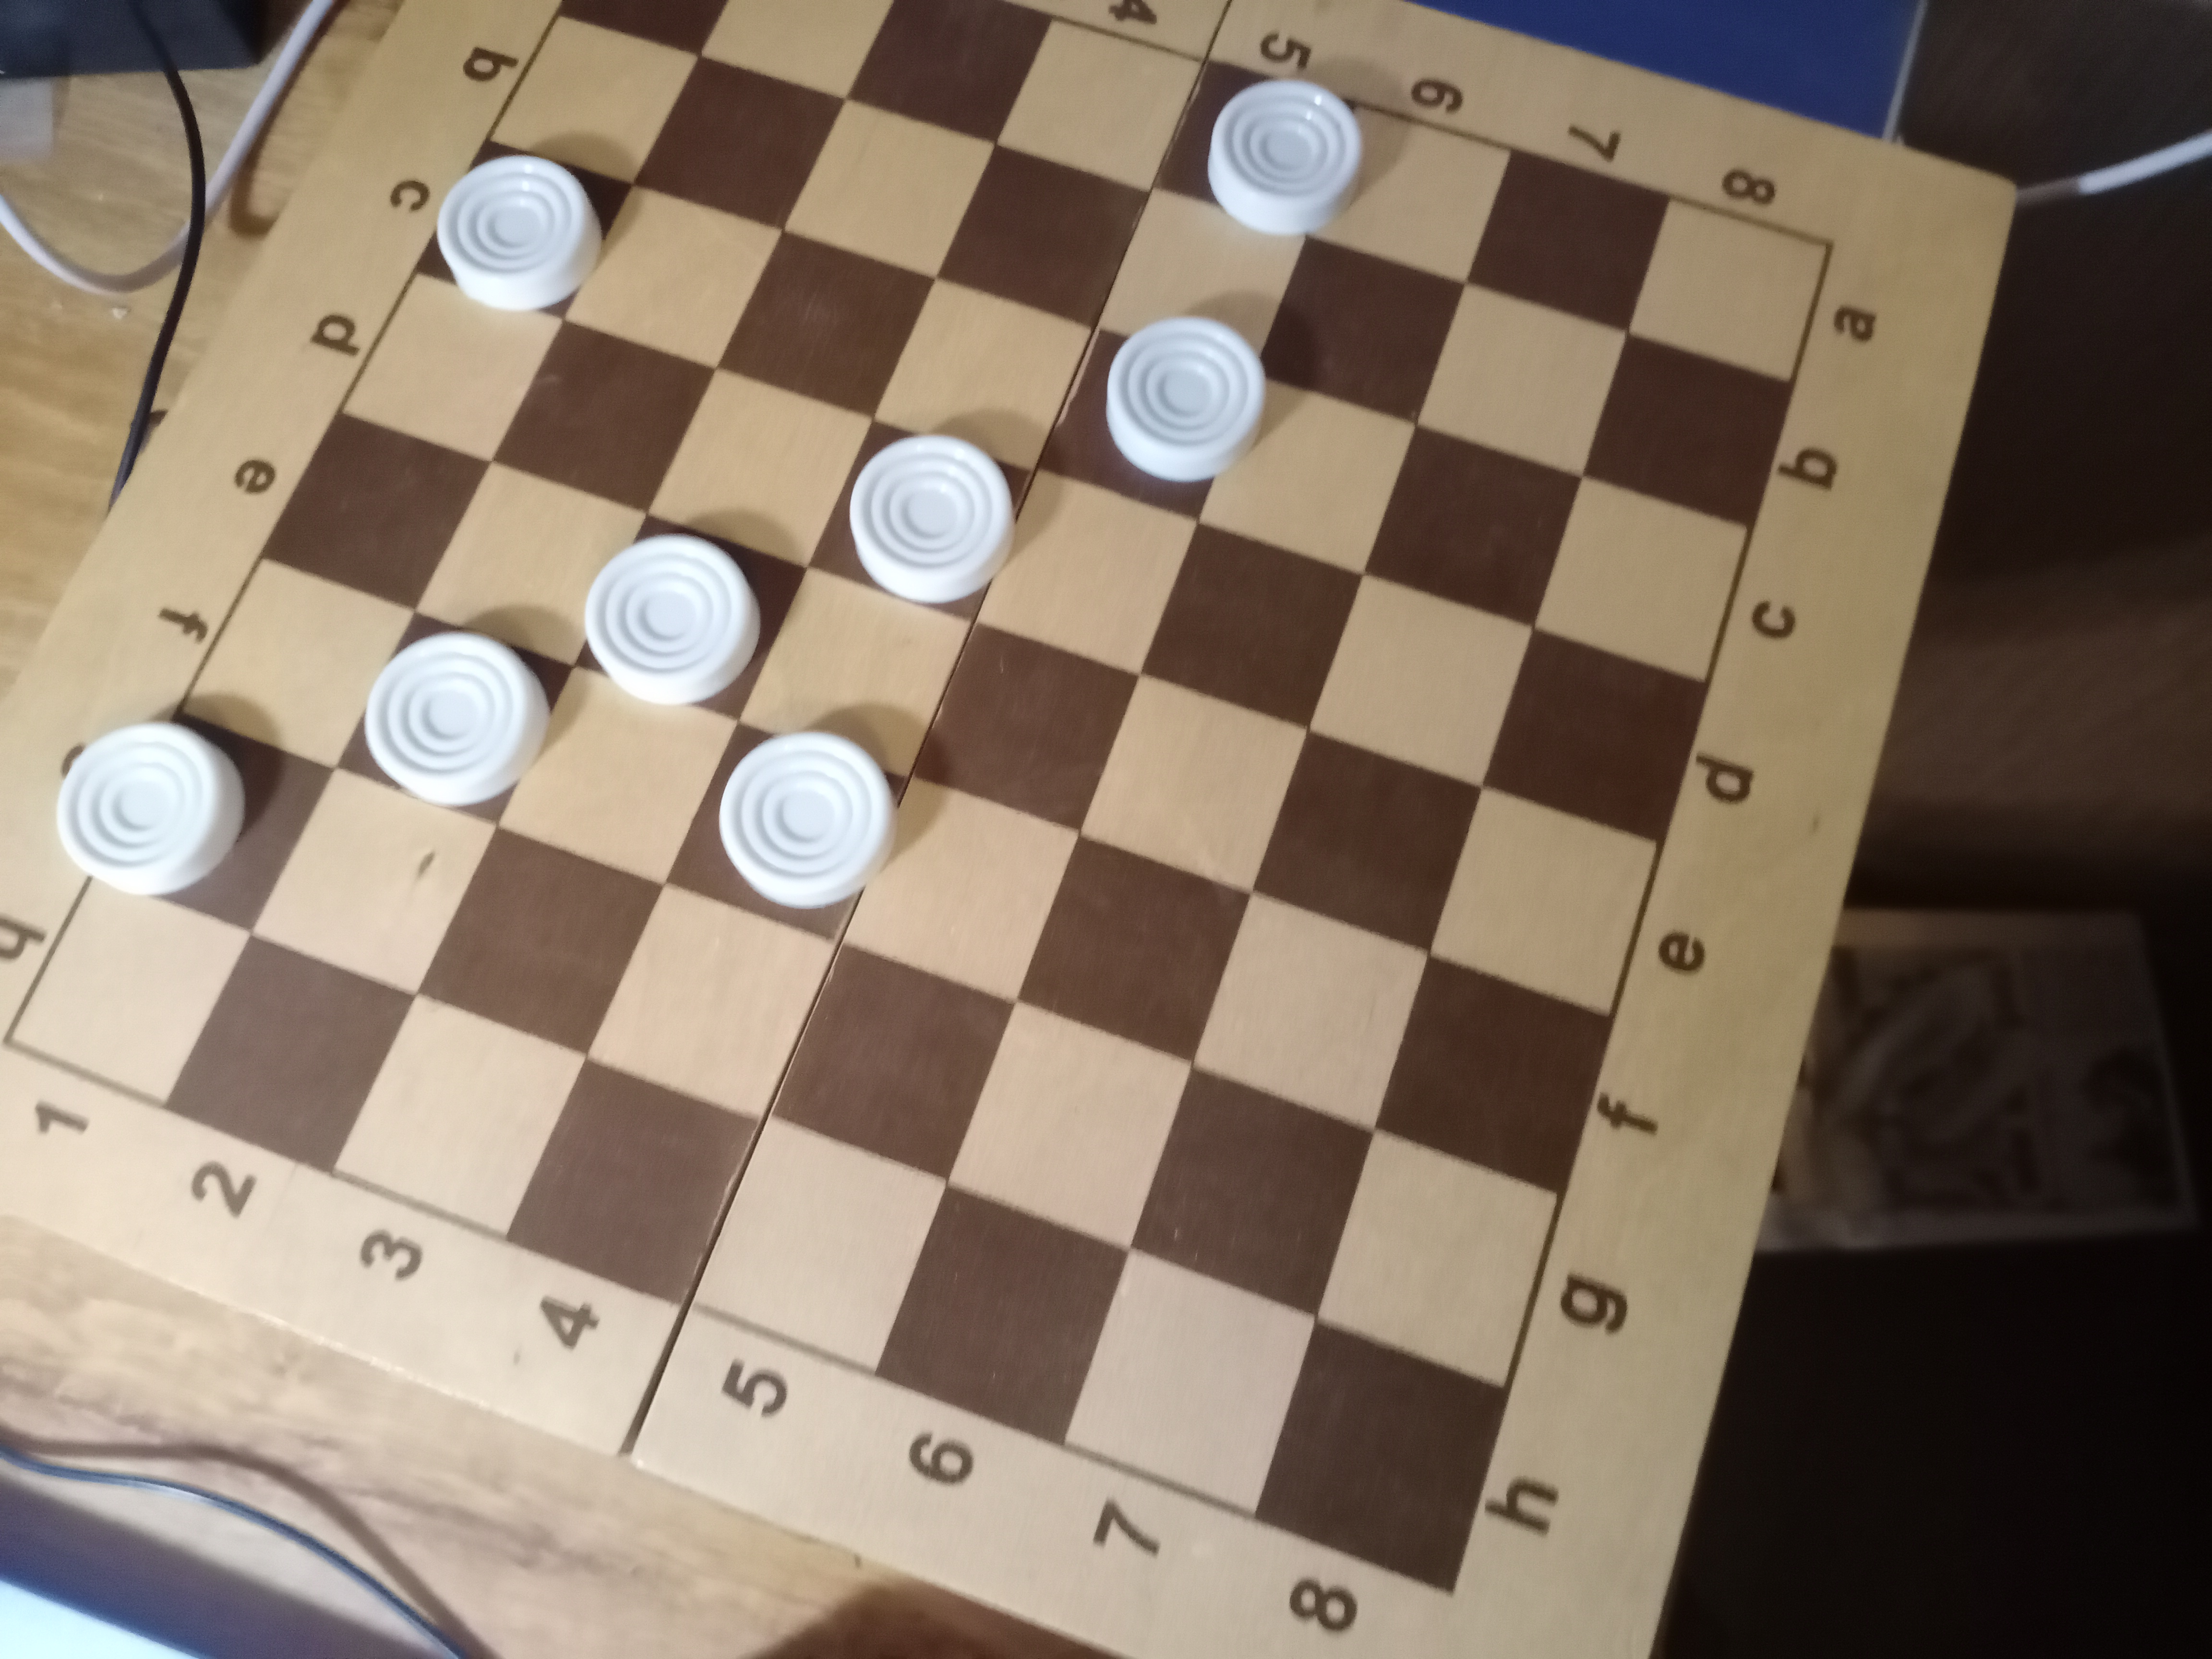White_Draught: (57, 711, 336, 934), (664, 721, 909, 945), (336, 612, 573, 824), (575, 514, 806, 721), (1035, 317, 1268, 523), (808, 420, 1033, 622), (415, 141, 632, 319), (1155, 61, 1366, 235)
